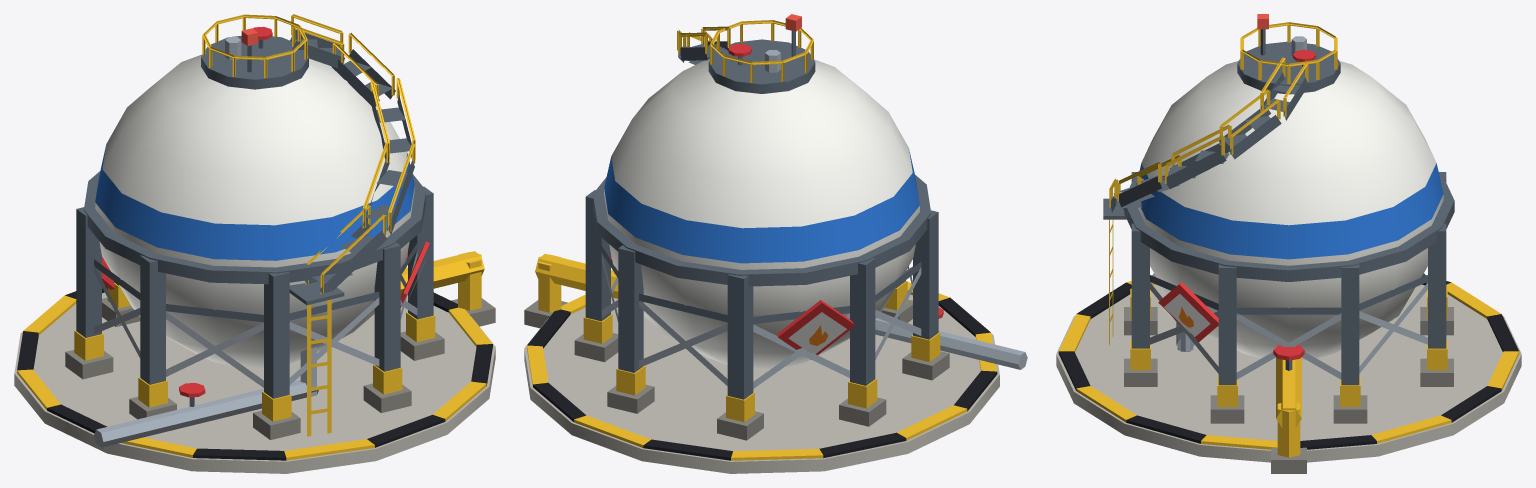
File: gas_holder.glb
3 views of the same model, side by side, from view 1: azimuth 30°, elevation 25°; view 2: azimuth 150°, elevation 25°; view 3: azimuth 270°, elevation 25° (orthographic). The views are drawn at different scales.
Visible parts, largest first — view 1: Body; view 2: Body; view 3: Body.
Boxes of the visible parts, x1,y1,x2,y2 form: Body: (14, 14, 495, 473); Body: (524, 14, 1027, 473); Body: (1056, 14, 1521, 473).
Size of the model in its own units: 1.89 by 1.45 by 1.8.
